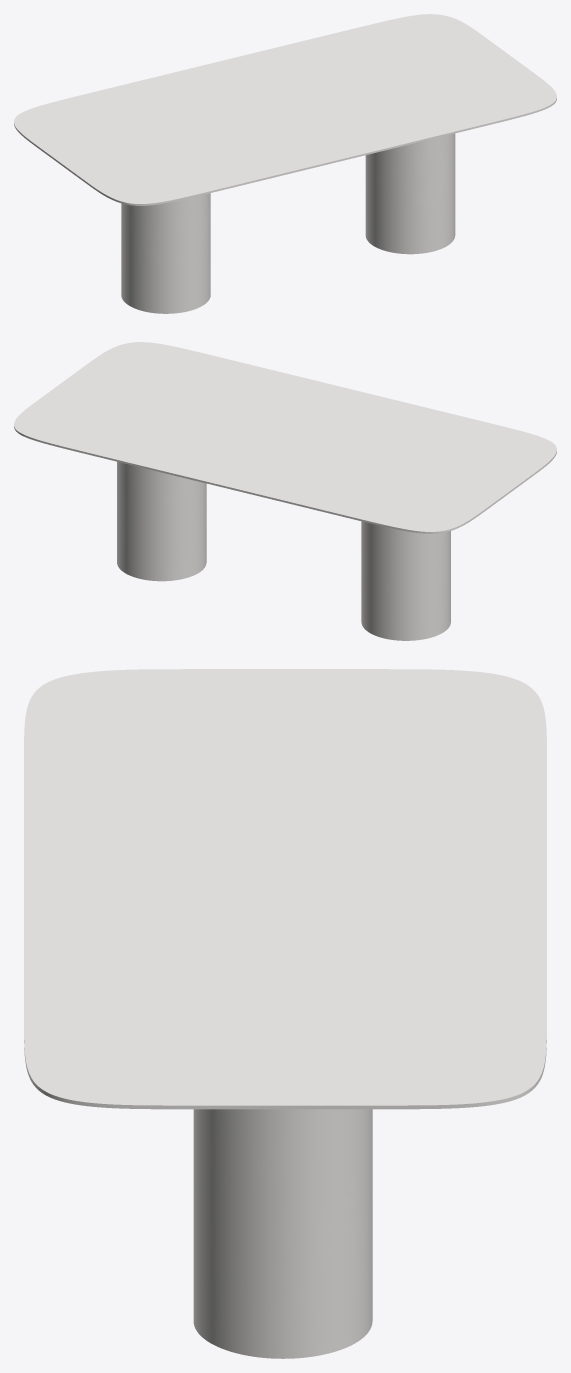
File: purewhite_softrecta_facet_stream.glb
The picture shows the model from 3 angles, top to bottom: view 1: azimuth 30°, elevation 25°; view 2: azimuth 150°, elevation 25°; view 3: azimuth 270°, elevation 25°; orthographic projection. The views are drawn at different scales.
Visible parts, largest first — view 1: facet_softrecta, stream; view 2: facet_softrecta, stream; view 3: facet_softrecta, stream.
Part boxes in pixels (left/top/right/bottom): facet_softrecta: left=14, top=14, right=556, bottom=205; stream: left=121, top=133, right=455, bottom=313; facet_softrecta: left=14, top=342, right=556, bottom=533; stream: left=117, top=461, right=450, bottom=640; facet_softrecta: left=24, top=669, right=546, bottom=1109; stream: left=193, top=1109, right=372, bottom=1358.
Size of the model in its own units: 7.5 by 2.5 by 3.8.
1 material, 1 textured.
